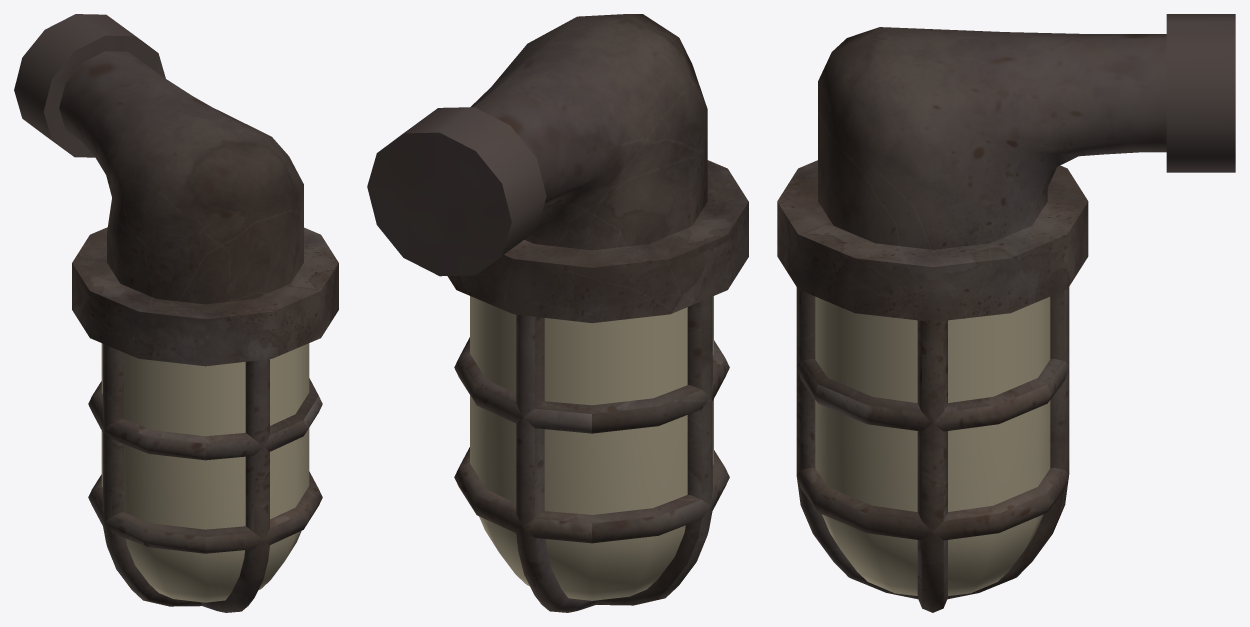
Rendered from Ruins_Lamp_01.fbx.
3 renders of one model, left to right at view 1: azimuth 30°, elevation 25°; view 2: azimuth 150°, elevation 25°; view 3: azimuth 270°, elevation 25°, orthographic. The views are drawn at different scales.
Visible parts, largest first — view 1: Ruins_Lamp_01; view 2: Ruins_Lamp_01; view 3: Ruins_Lamp_01.
Part boxes in pixels (bbox=[...]): Ruins_Lamp_01: bbox=[14, 14, 338, 612]; Ruins_Lamp_01: bbox=[367, 14, 748, 612]; Ruins_Lamp_01: bbox=[777, 14, 1235, 612].
Size of the model in its own units: 5.14 by 10.52 by 7.57.
2 materials, 1 textured.
